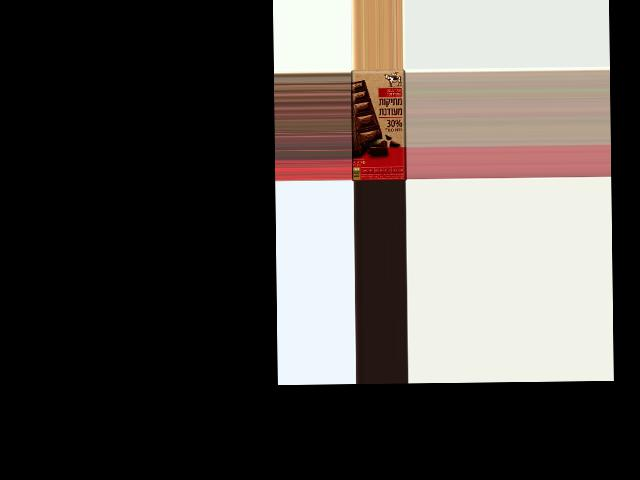chocolate: (351, 69, 407, 180)
